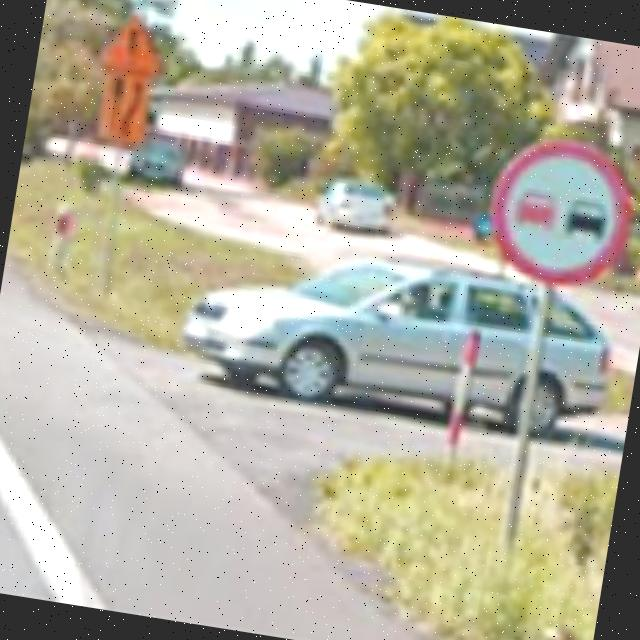Zakaz wyprzedzania: (478, 130, 640, 297)
